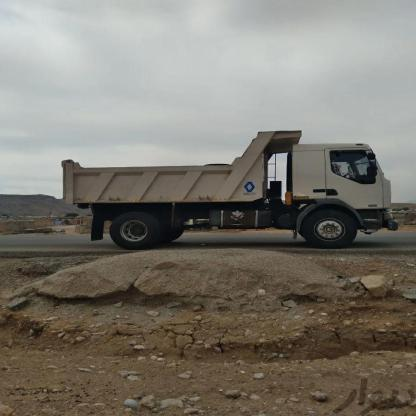Truck: (52, 126, 407, 254)
